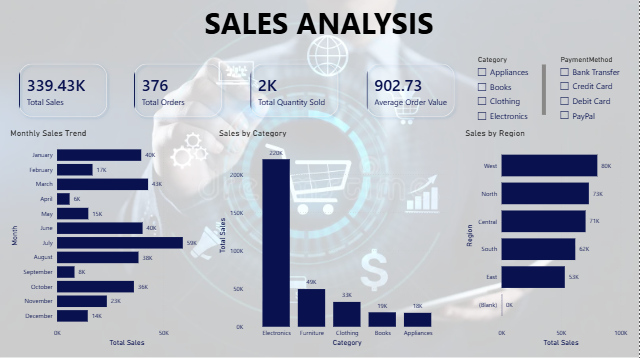

The dashboard page shown, as its layout file describes it:
{"tool":"powerbi","page":{"name":"Page 1","canvas":[1280,720],"ordinal":0},"visuals":[{"type":"textbox","box":[0,0,1280,103.3],"z":0},{"type":"cardVisual","fields":{"Data":["12 - Amazon Sales.Total Sales"]},"box":[16.2,103.8,220,150],"z":1000},{"type":"cardVisual","fields":{"Data":["12 - Amazon Sales.Total Orders"]},"box":[248.2,103.8,220,150],"z":2000},{"type":"cardVisual","fields":{"Data":["12 - Amazon Sales.Total Quantity Sold"]},"box":[480.1,103.8,220,150],"z":3000},{"type":"cardVisual","fields":{"Data":["12 - Amazon Sales.Average Order Value"]},"box":[712.1,103.8,220,150],"z":4000},{"type":"columnChart","title":"Sales by Category","fields":{"Category":["12 - Amazon Sales.Category"],"Y":["12 - Amazon Sales.Total Sales"]},"box":[435.8,255,465,442.5],"z":7000},{"type":"barChart","title":"Monthly Sales Trend","fields":{"Category":["12 - Amazon Sales.OrderDate.Variation.Date Hierarchy.Month"],"Y":["12 - Amazon Sales.Total Sales"]},"box":[16.7,255,393.3,443.3],"z":8000},{"type":"barChart","title":"Sales by Region","fields":{"Category":["12 - Amazon Sales.Region"],"Y":["12 - Amazon Sales.Total Sales"]},"box":[926.7,255,335,443.3],"z":9000},{"type":"slicer","fields":{"Values":["12 - Amazon Sales.Category"]},"box":[944,103.8,154,150],"z":9001},{"type":"slicer","fields":{"Values":["12 - Amazon Sales.PaymentMethod"]},"box":[1110,103.8,152,150],"z":9002}]}

Visuals, with their boxes in screenshot pixels (x1, y1, x2, y2), scaled from the page's 1280x720 canvas onto the 640x358 screenshot:
textbox: left=0, top=0, right=639, bottom=51
cardVisual - 12 - Amazon Sales.Total Sales: left=8, top=52, right=118, bottom=126
cardVisual - 12 - Amazon Sales.Total Orders: left=124, top=52, right=234, bottom=126
cardVisual - 12 - Amazon Sales.Total Quantity Sold: left=240, top=52, right=350, bottom=126
cardVisual - 12 - Amazon Sales.Average Order Value: left=356, top=52, right=466, bottom=126
"Sales by Category" columnChart: left=218, top=127, right=450, bottom=347
"Monthly Sales Trend" barChart: left=8, top=127, right=205, bottom=347
"Sales by Region" barChart: left=463, top=127, right=631, bottom=347
slicer - 12 - Amazon Sales.Category: left=472, top=52, right=549, bottom=126
slicer - 12 - Amazon Sales.PaymentMethod: left=555, top=52, right=631, bottom=126
